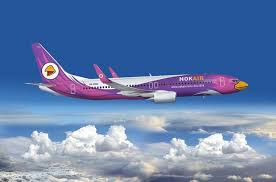maybay_dansu: (30, 40, 247, 103)
